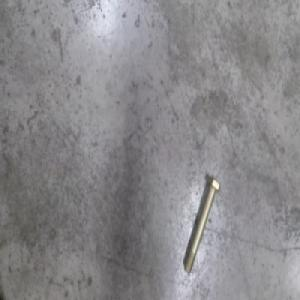Bolt: (182, 179, 221, 276)
